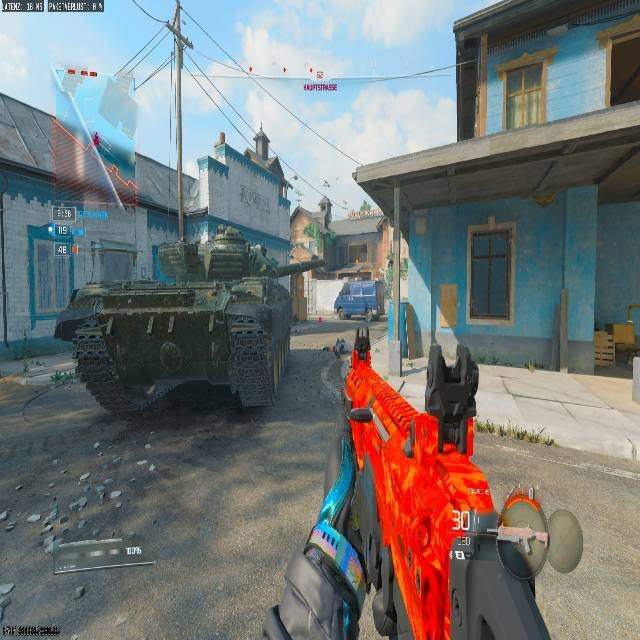player: (329, 333, 351, 380), (334, 337, 346, 358)
